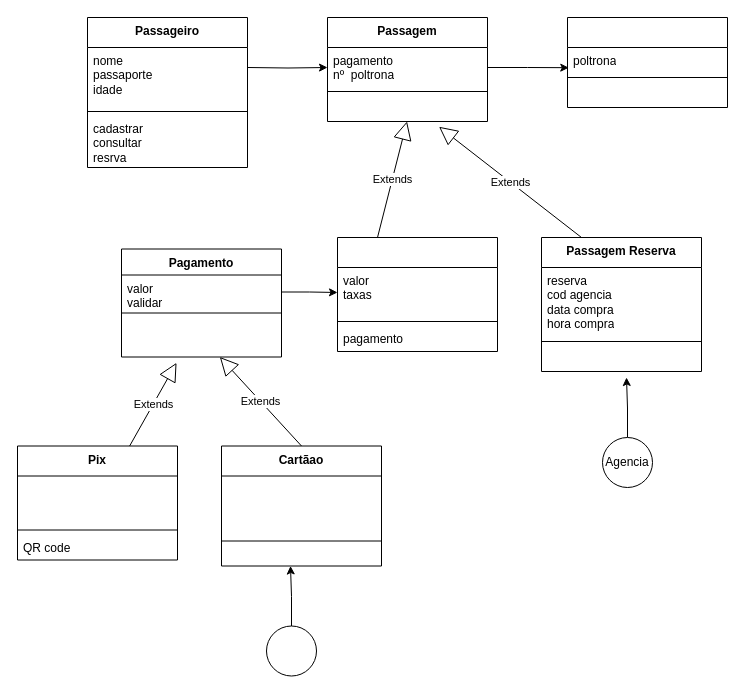
This 745x694 diagram has some shape labels left out. The box of each missing label's shape, as (x1, y1, x2, y2) in pixels:
Cartão: (266, 625, 316, 676)
Passagem Compra: (336, 236, 498, 352)
Voo: (566, 16, 728, 108)
